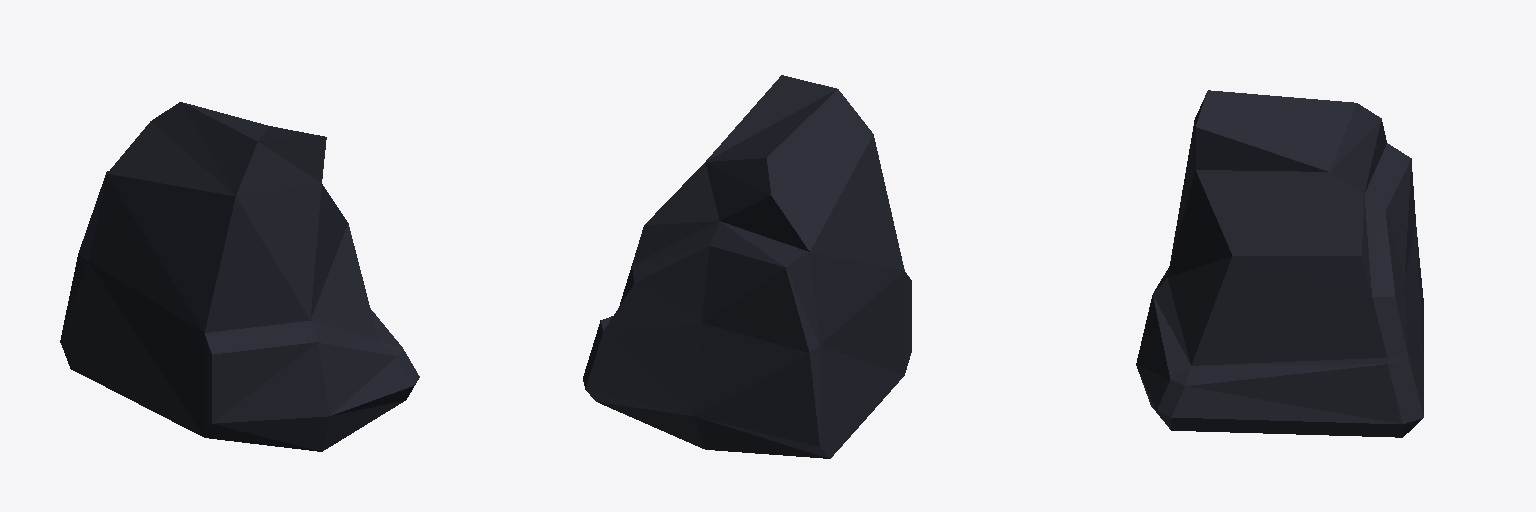
Rendered from Rock_2_Cube.obj.
The picture shows the model from 3 angles: view 1: azimuth 30°, elevation 25°; view 2: azimuth 150°, elevation 25°; view 3: azimuth 270°, elevation 25°; orthographic projection.
Parts seen in each view (by area): view 1: Rock_2_Cube.016; view 2: Rock_2_Cube.016; view 3: Rock_2_Cube.016.
Part boxes in pixels (x1,y1,x2,y2): Rock_2_Cube.016: (60,102,419,451); Rock_2_Cube.016: (583,75,911,458); Rock_2_Cube.016: (1136,90,1423,437).
Size of the model in its own units: 0.5614 by 0.6456 by 0.565.